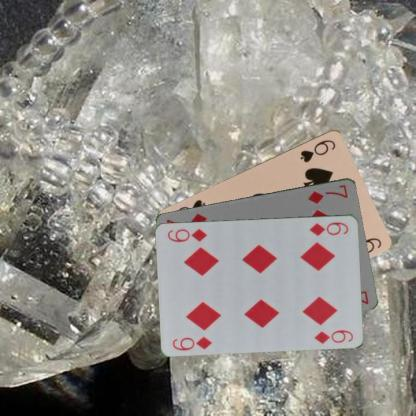6d: (306, 219, 350, 237), (170, 334, 213, 352)
6s: (297, 136, 337, 164)
7d: (305, 182, 349, 205)
